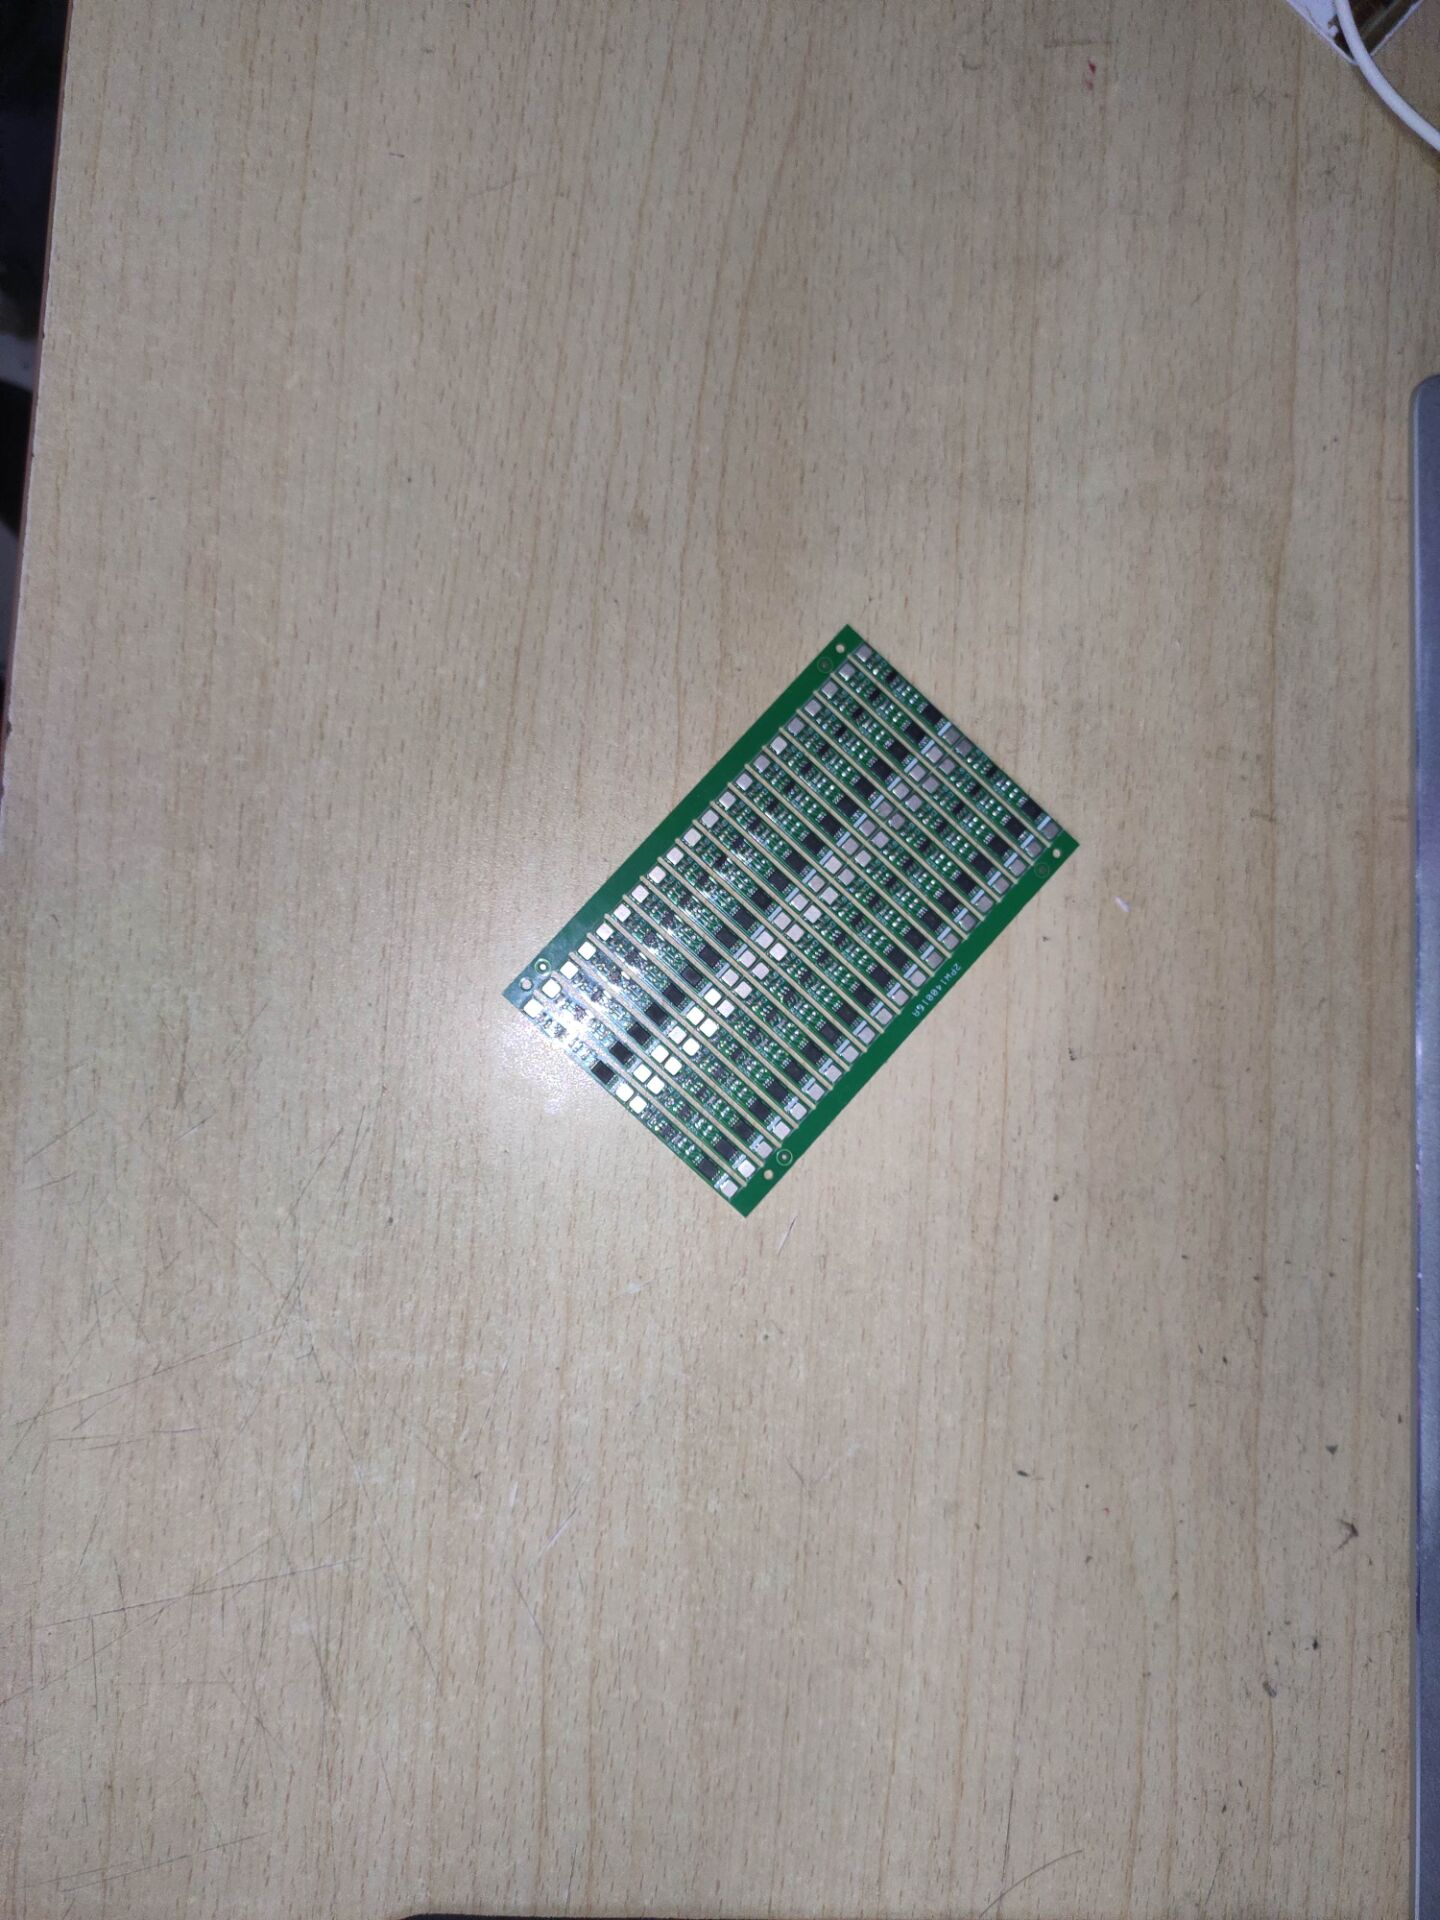point: (679, 1034, 702, 1057), (850, 849, 876, 869), (632, 1063, 655, 1084), (903, 792, 926, 814), (767, 941, 789, 962), (697, 1016, 719, 1038), (644, 1073, 667, 1094), (954, 737, 975, 757), (921, 775, 943, 796), (886, 811, 907, 831), (835, 866, 856, 887), (663, 1054, 683, 1075), (873, 1005, 893, 1028), (768, 736, 789, 756), (522, 998, 543, 1018), (685, 1006, 705, 1026), (616, 1083, 635, 1103), (715, 998, 736, 1018), (890, 988, 910, 1008), (667, 1026, 689, 1045), (717, 790, 736, 810), (612, 904, 632, 923), (789, 892, 809, 911), (737, 949, 757, 969), (650, 1045, 670, 1064), (938, 756, 957, 776), (803, 905, 823, 925), (786, 923, 806, 943), (632, 883, 651, 904), (542, 979, 562, 998), (722, 968, 739, 988), (869, 831, 891, 849), (820, 887, 841, 906), (732, 981, 753, 999), (627, 1094, 649, 1113), (942, 932, 960, 952), (907, 969, 928, 987), (821, 681, 841, 698), (805, 699, 825, 717), (787, 717, 805, 737), (561, 961, 579, 981), (824, 856, 843, 875), (750, 962, 770, 980), (1009, 858, 1029, 877), (959, 912, 977, 932), (823, 1064, 843, 1082), (806, 1083, 825, 1102), (755, 1140, 773, 1159), (837, 663, 858, 681), (648, 866, 668, 883), (926, 948, 943, 969), (842, 1042, 859, 1063), (754, 755, 771, 773), (684, 829, 702, 846), (842, 837, 860, 856), (756, 931, 774, 949), (858, 1026, 876, 1045), (596, 923, 616, 941), (703, 988, 723, 1005), (773, 1121, 790, 1140), (667, 846, 683, 864), (894, 782, 910, 800), (859, 819, 876, 837), (775, 912, 792, 929), (1027, 840, 1043, 859), (992, 877, 1011, 894), (791, 1103, 808, 1122), (720, 1180, 738, 1198), (1043, 821, 1059, 841), (739, 1158, 755, 1178), (736, 772, 753, 789), (702, 809, 719, 826), (580, 943, 596, 960), (910, 765, 927, 781), (976, 896, 993, 913), (856, 646, 874, 660), (809, 876, 825, 893), (944, 728, 959, 745), (876, 802, 893, 817), (928, 748, 943, 762)
